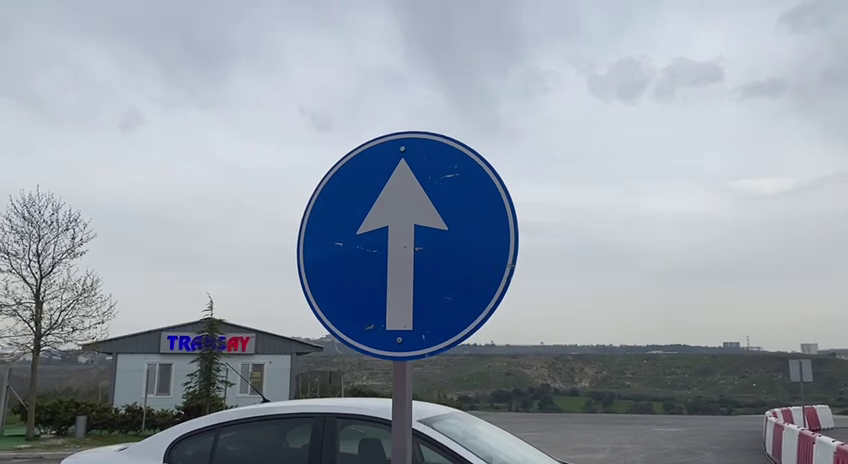forward: (294, 124, 521, 361)
